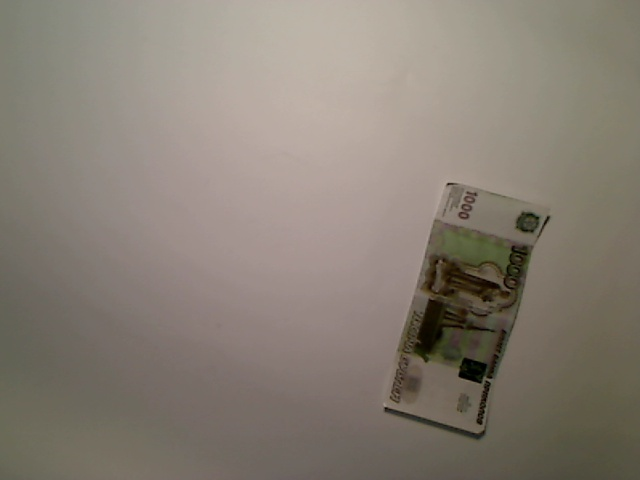banknotes: (381, 176, 557, 438)
